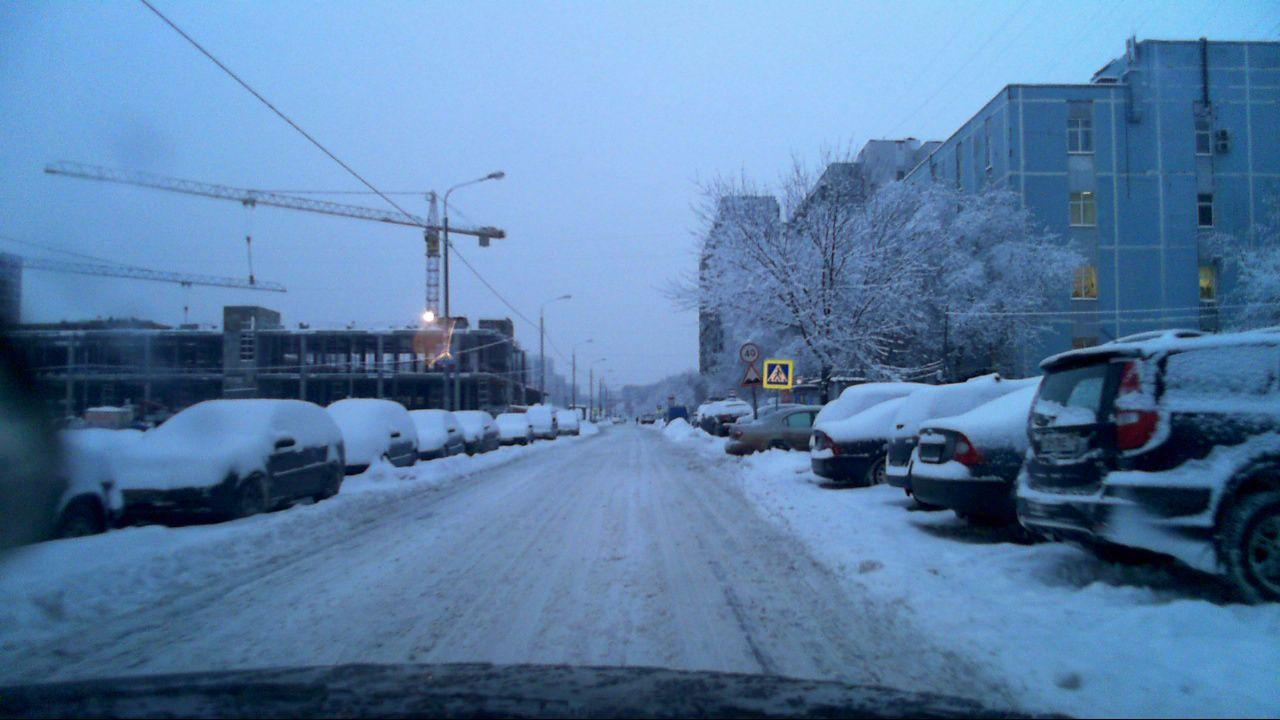1_16: (739, 363, 764, 384)
3_24: (740, 343, 759, 361)
5_19_1: (767, 362, 791, 386)
